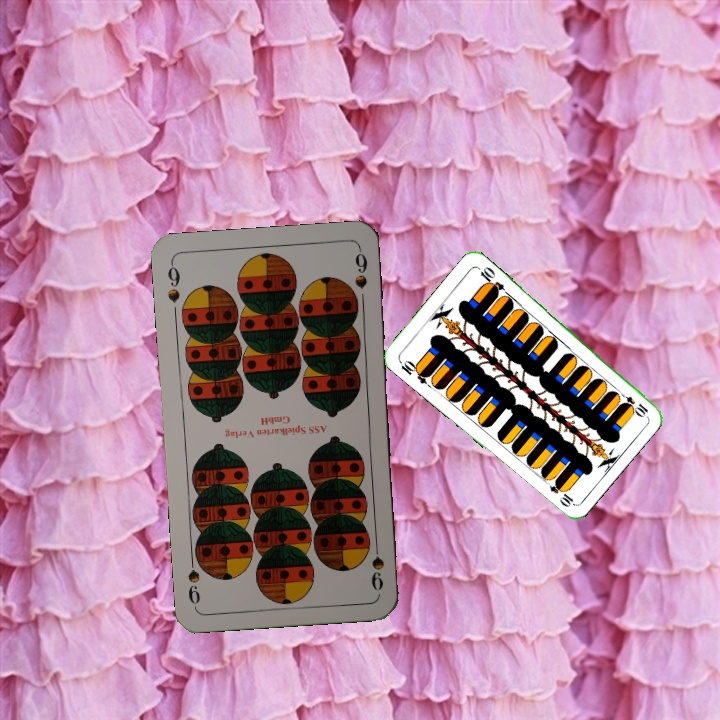E10: (395, 356, 433, 387), (614, 387, 651, 418)
S9: (367, 535, 386, 592), (163, 258, 183, 305)
